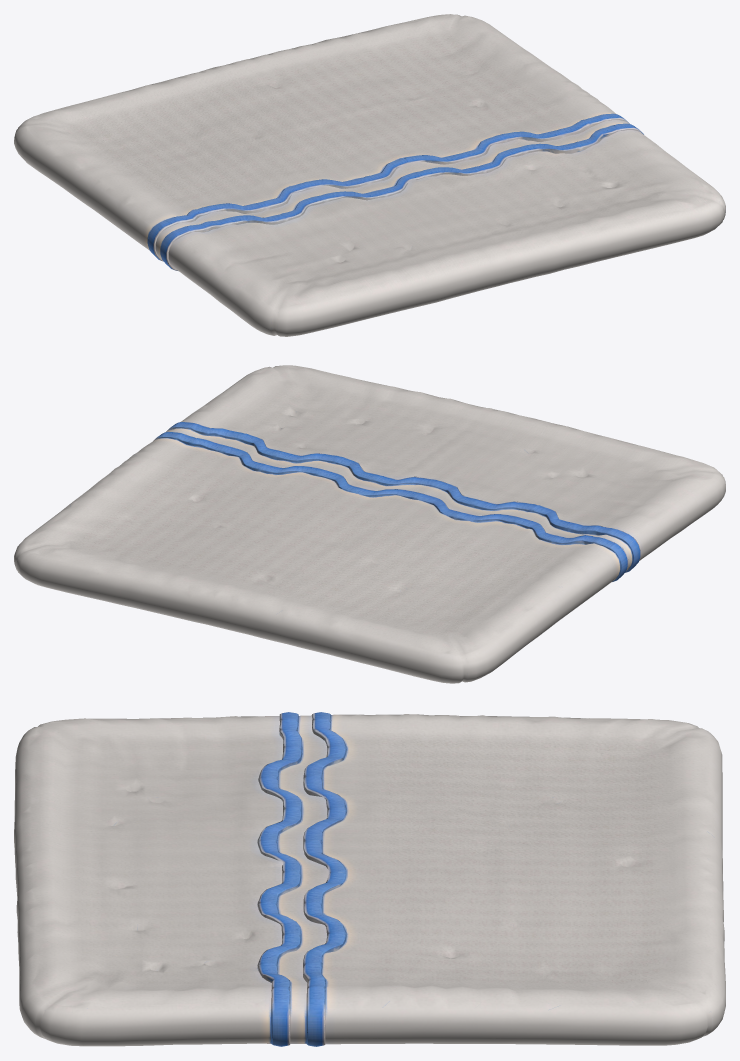
Rendered from Gauze.glb.
3 views of the same model, one above another, from view 1: azimuth 30°, elevation 25°; view 2: azimuth 150°, elevation 25°; view 3: azimuth 270°, elevation 25° (orthographic). The views are drawn at different scales.
Parts seen in each view (by area): view 1: gauze; view 2: gauze; view 3: gauze.
Part boxes in pixels (x1,y1,x2,y2): gauze: [14, 14, 725, 336]; gauze: [14, 365, 725, 683]; gauze: [14, 712, 725, 1046].
Size of the model in its own units: 0.075 by 0.00619 by 0.075.
Materials: 1 (1 with a texture image).
